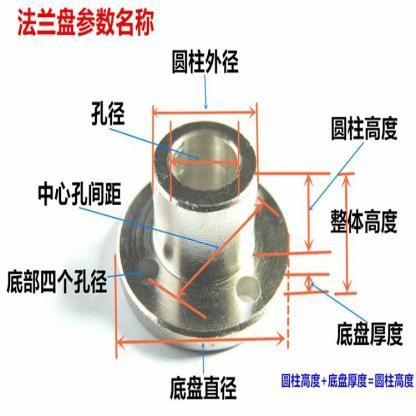FOD: (115, 113, 295, 357)
